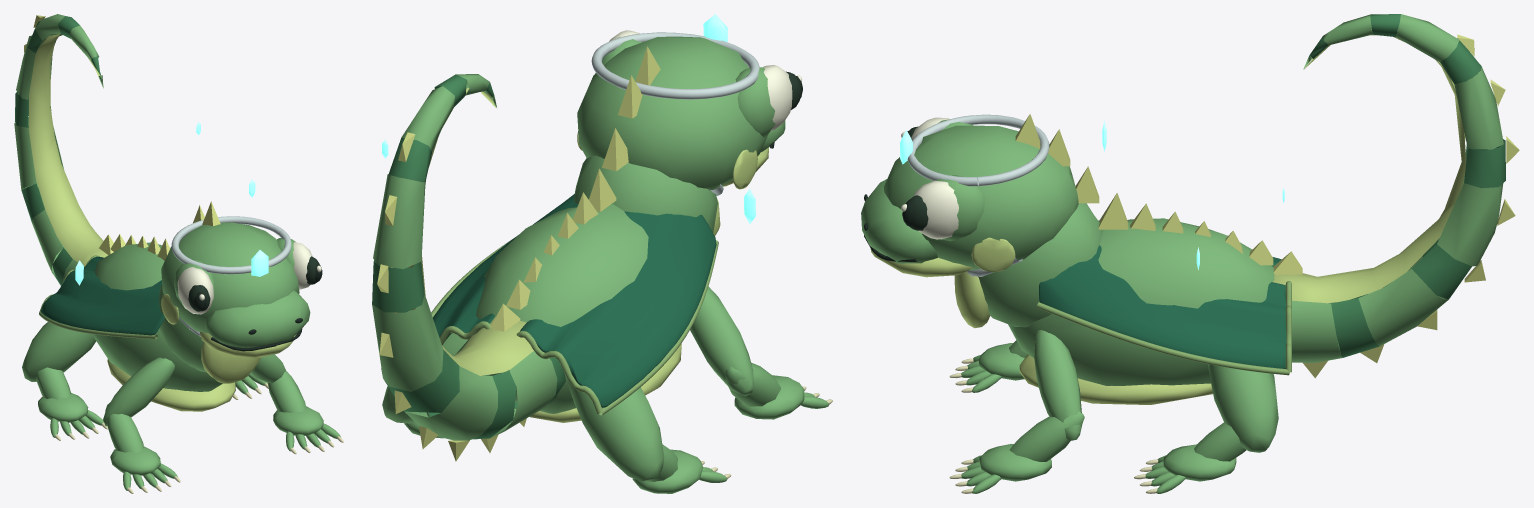
Rendered from iguana.glb.
The picture shows the model from 3 angles, left to right: view 1: azimuth 30°, elevation 25°; view 2: azimuth 150°, elevation 25°; view 3: azimuth 270°, elevation 25°; orthographic projection. The views are drawn at different scales.
Parts seen in each view (by area): view 1: tail_long_curled_iguana_tail, head_broad_iguana_head, body_pear_shaped_torso, cape_green_woodland_cape_1, head_rounded_muzzle, leg_-1_-1, leg_-1_1, body_pale_belly, head_silver_woodland_circlet, body_neck, head_dewlap, leg_-1_1_lower_leg (+12 smaller); view 2: tail_long_curled_iguana_tail, head_broad_iguana_head, cape_green_woodland_cape_1, body_pear_shaped_torso, leg_-1_-1, body_neck, leg_-1_1, head_silver_woodland_circlet, cape_green_woodland_cape_1_1, head_eye_socket_1, leg_-1_1_palm, leg_-1_-1_palm_001 (+12 smaller); view 3: tail_long_curled_iguana_tail, body_pear_shaped_torso, head_broad_iguana_head, cape_green_woodland_cape_1_1, body_neck, leg_1_-1, leg_1_1, head_rounded_muzzle, body_pale_belly, head_silver_woodland_circlet, leg_1_1_lower_leg_002, head_eye_white_1_1 (+9 smaller).
Boxes of the visible parts, x1,y1,x2,y2 form: tail_long_curled_iguana_tail: (14,14,108,285); head_broad_iguana_head: (161,222,299,332); body_pear_shaped_torso: (93,242,222,391); cape_green_woodland_cape_1: (41,256,164,335); head_rounded_muzzle: (205,290,310,347); leg_-1_-1: (22,322,96,381); leg_-1_1: (103,357,174,426); body_pale_belly: (107,359,235,411); head_silver_woodland_circlet: (171,216,291,274); body_neck: (159,284,206,372); head_dewlap: (201,342,260,383); leg_-1_1_lower_leg: (105,402,143,452); tail_long_curled_iguana_tail: (372,74,565,440); head_broad_iguana_head: (577,36,768,190); cape_green_woodland_cape_1: (520,211,716,407); body_pear_shaped_torso: (476,204,648,413); leg_-1_-1: (568,381,664,481); body_neck: (573,155,717,232); leg_-1_1: (690,286,753,396); head_silver_woodland_circlet: (591,32,759,99); cape_green_woodland_cape_1_1: (433,194,578,340); head_eye_socket_1: (735,67,775,137); leg_-1_1_palm: (734,375,804,419); leg_-1_-1_palm_001: (632,449,703,493); tail_long_curled_iguana_tail: (1273,14,1505,362); body_pear_shaped_torso: (1008,218,1274,385); head_broad_iguana_head: (884,125,1078,270); cape_green_woodland_cape_1_1: (1039,245,1286,368); body_neck: (978,203,1103,327); leg_1_-1: (1208,364,1278,452); leg_1_1: (1034,330,1081,440); head_rounded_muzzle: (861,179,937,263); body_pale_belly: (1019,354,1212,404); head_silver_woodland_circlet: (907,114,1049,186); leg_1_1_lower_leg_002: (1009,411,1084,461); head_eye_white_1_1: (913,180,958,239).
Bounding box in the file's own units: 1.87 × 2.68 × 3.86.
